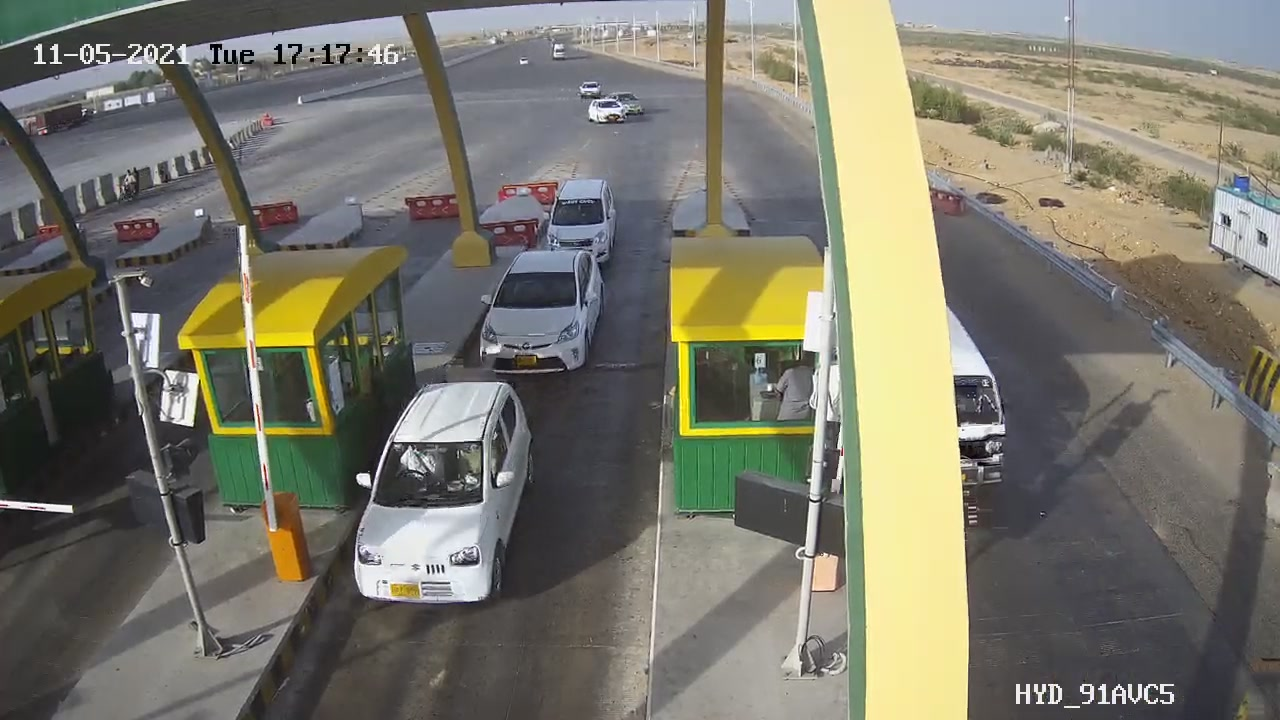F1: (338, 365, 548, 622), (461, 236, 624, 388)
